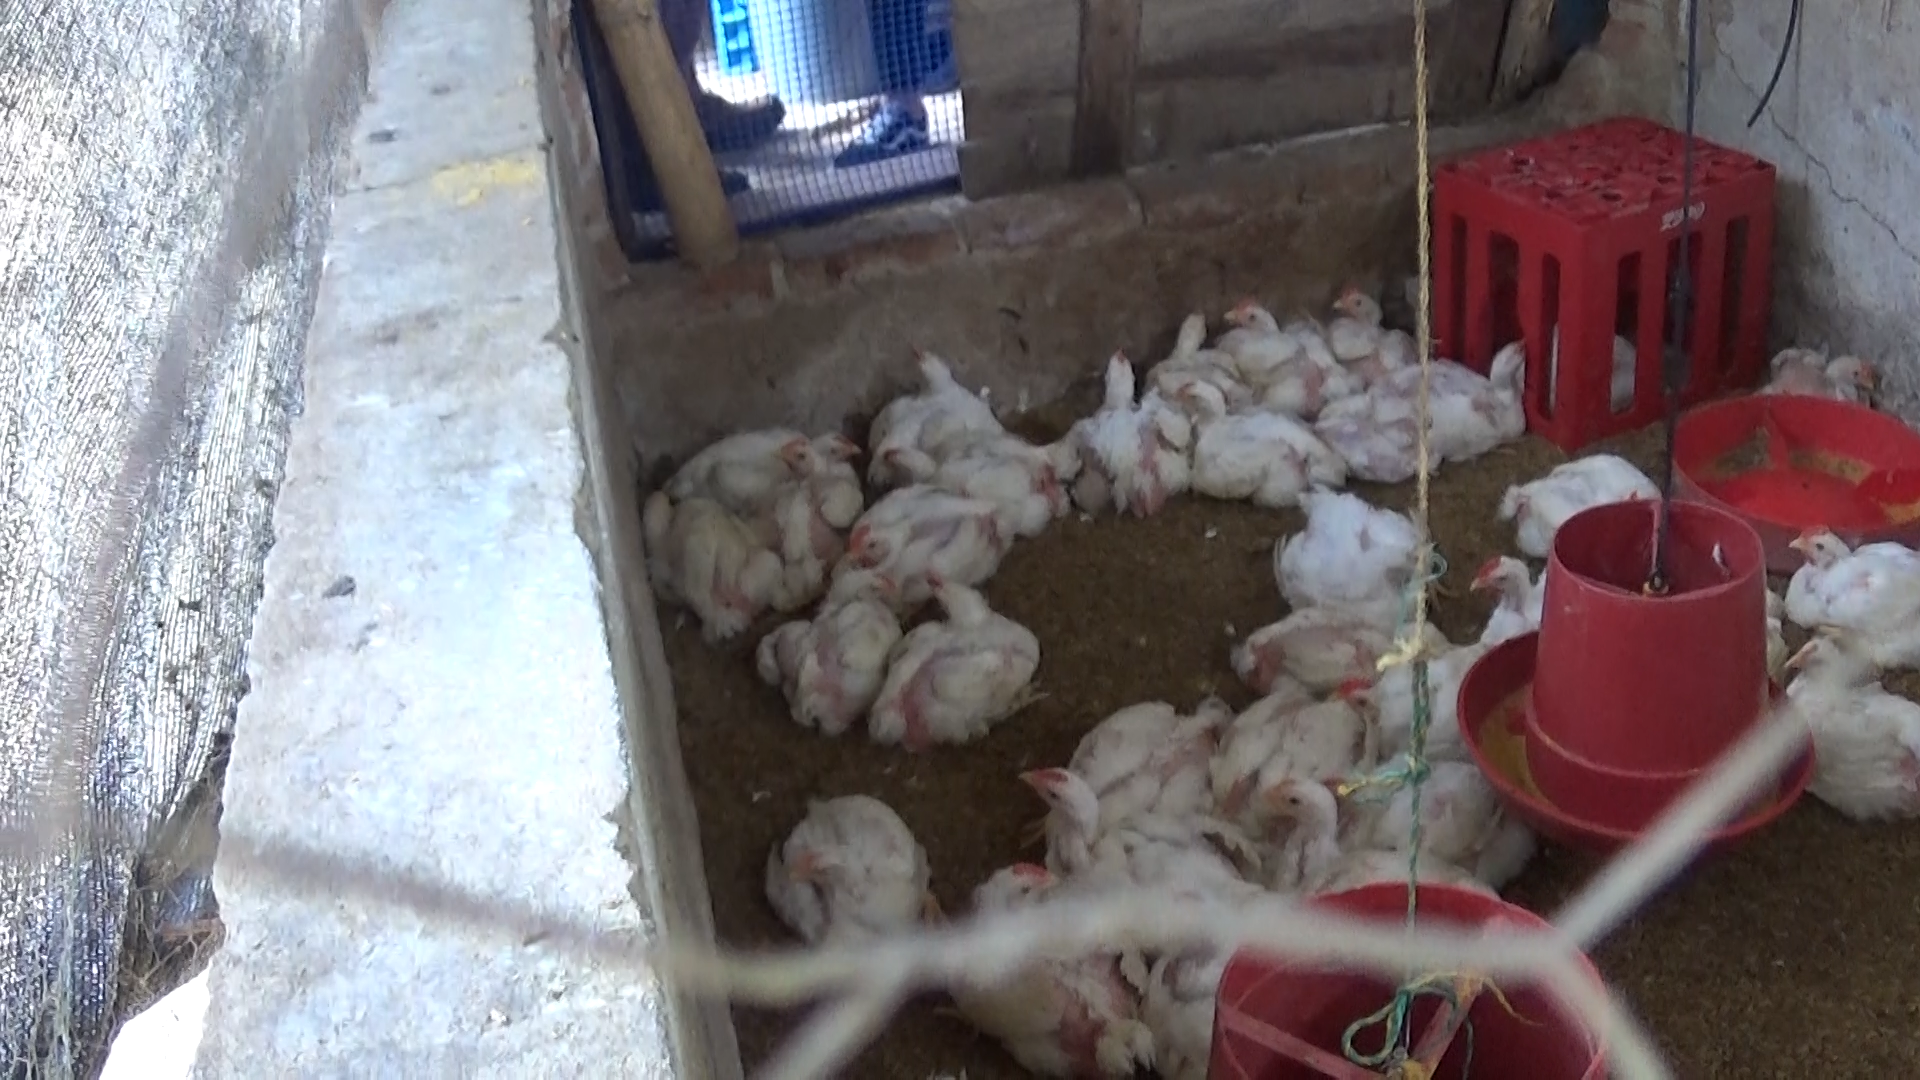Pollos: (934, 860, 1155, 1075), (1004, 676, 1228, 889), (858, 555, 1051, 765), (757, 778, 942, 964), (1253, 760, 1444, 899), (1782, 618, 1920, 804), (1274, 452, 1440, 597), (1174, 372, 1345, 508), (1211, 583, 1431, 688), (884, 419, 1072, 541), (1772, 512, 1920, 663), (633, 488, 781, 638), (1478, 429, 1668, 545), (1360, 336, 1545, 452), (843, 501, 1025, 611), (785, 568, 898, 741), (1327, 673, 1474, 793), (684, 410, 857, 510), (856, 345, 1010, 444), (1077, 349, 1163, 524), (771, 444, 872, 546), (1222, 273, 1315, 365), (1464, 555, 1557, 644), (1324, 278, 1419, 364), (1147, 305, 1230, 396)
